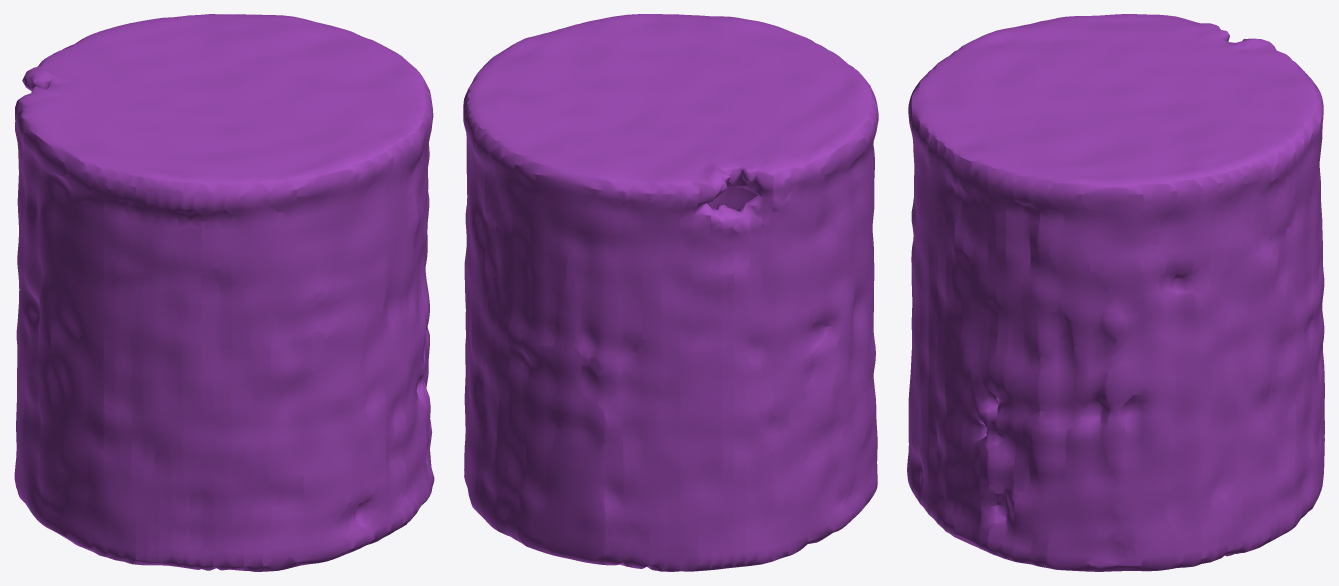
Rendered from table_11_4.obj.
3 renders of one model, left to right at view 1: azimuth 30°, elevation 25°; view 2: azimuth 150°, elevation 25°; view 3: azimuth 270°, elevation 25°, orthographic.
Bounding box in the file's own units: 0.7645 × 0.8016 × 0.7663.
